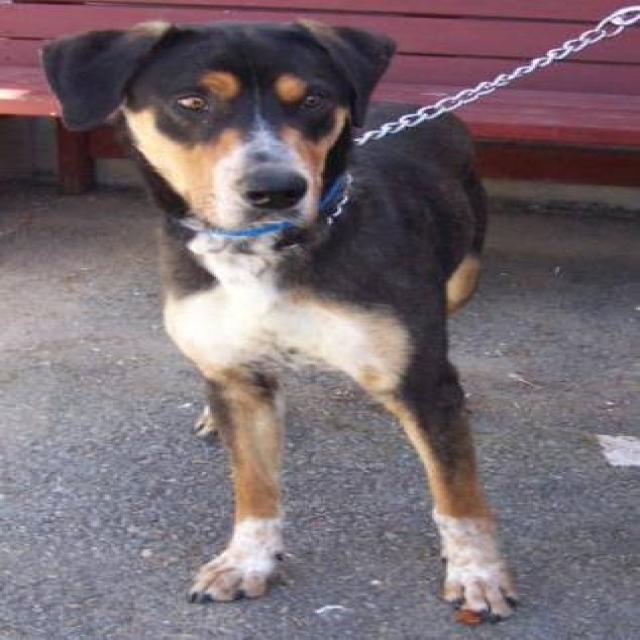dog: (38, 17, 521, 626)
